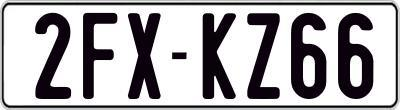2: (32, 10, 69, 98)
6: (288, 11, 325, 97), (335, 13, 371, 99)
F: (83, 11, 122, 102)
K: (200, 10, 233, 97)
X: (126, 10, 164, 96)
Z: (244, 11, 279, 102)
